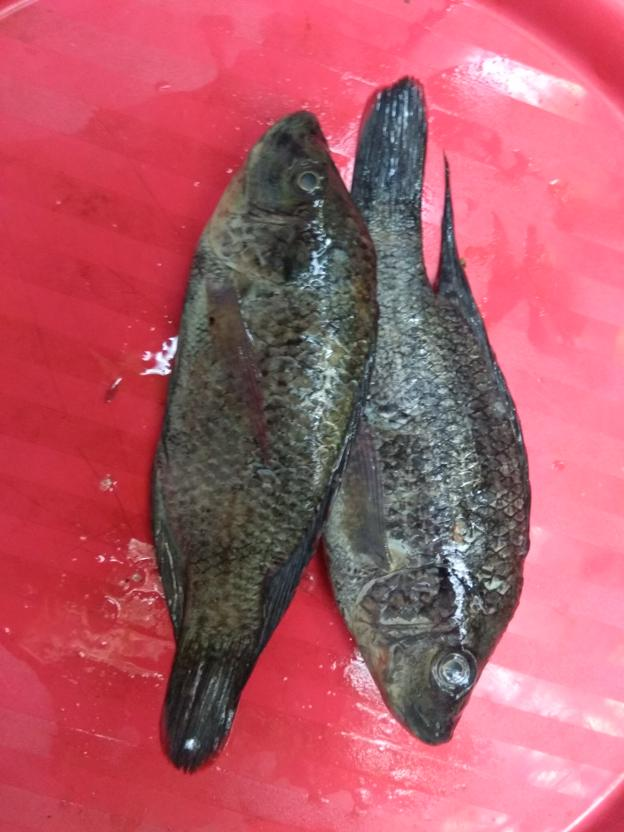Fish head: (199, 110, 370, 291), (350, 563, 512, 748)
Fish tail: (158, 636, 254, 777), (350, 75, 432, 217)
